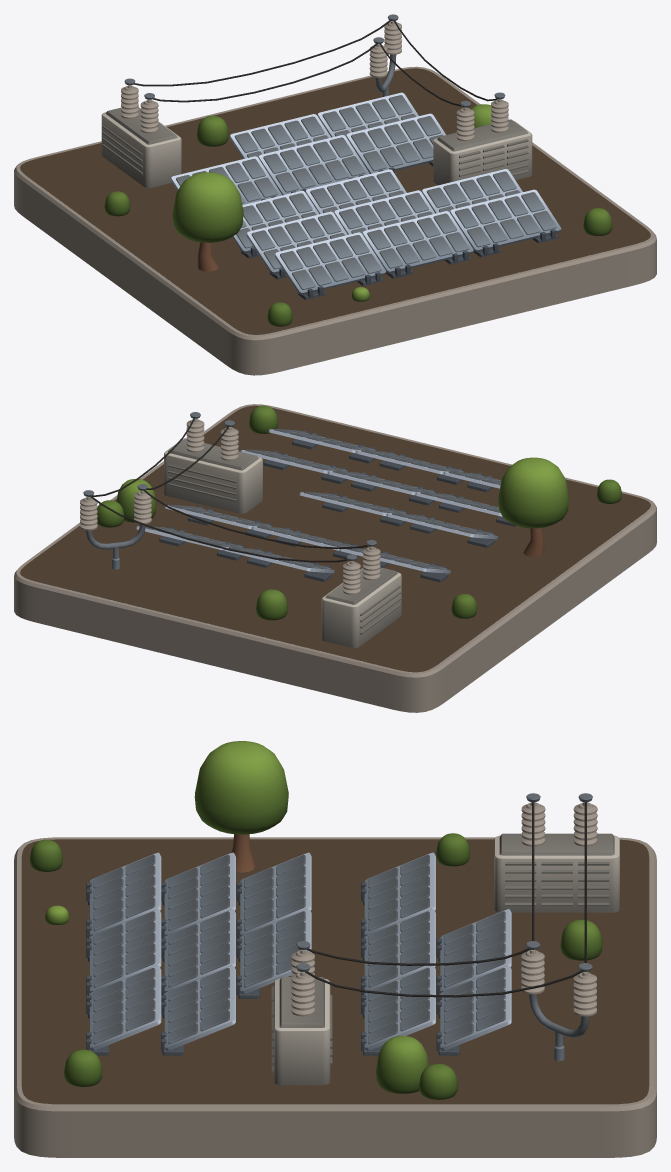
Rendered from stage-300-simple.glb.
3 views of the same model, one above another, from view 1: azimuth 30°, elevation 25°; view 2: azimuth 150°, elevation 25°; view 3: azimuth 270°, elevation 25° (orthographic). The views are drawn at different scales.
Parts seen in each view (by area): view 1: ground, building_main.001, building_main.003, building_main.002, Cube, Cube.001, leaves_low, building_main.014, building_main.015, building_main.004, building_main.018, building_main.019 (+13 smaller); view 2: ground, Cube, Cube.001, leaves_low, Plane, building_main.008, building_main.018, building_main.002, building_main.009, building_main.003, building_main.005, building_main.006 (+17 smaller); view 3: ground, Cube.001, leaves_low, Cube, building_main.006, building_main.003, building_main.019, building_main.015, building_main.002, building_main.008, building_main.001, building_main.005 (+18 smaller).
Part boxes in pixels (bbox=[...]): ground: bbox=[14, 66, 656, 375]; building_main.001: bbox=[275, 232, 385, 299]; building_main.003: bbox=[450, 189, 561, 257]; building_main.002: bbox=[362, 211, 473, 278]; Cube: bbox=[433, 119, 532, 185]; Cube.001: bbox=[101, 106, 181, 187]; leaves_low: bbox=[172, 172, 243, 242]; building_main.014: bbox=[258, 135, 369, 195]; building_main.015: bbox=[346, 113, 445, 176]; building_main.004: bbox=[246, 211, 347, 279]; building_main.018: bbox=[229, 114, 331, 158]; building_main.019: bbox=[317, 92, 418, 137]; ground: bbox=[14, 404, 656, 712]; Cube: bbox=[164, 438, 262, 513]; Cube.001: bbox=[321, 567, 401, 647]; leaves_low: bbox=[498, 457, 569, 528]; Plane: bbox=[90, 418, 367, 562]; building_main.008: bbox=[386, 513, 497, 547]; building_main.018: bbox=[223, 547, 334, 581]; building_main.002: bbox=[356, 450, 463, 484]; building_main.009: bbox=[299, 491, 406, 526]; building_main.003: bbox=[268, 428, 375, 463]; building_main.005: bbox=[328, 470, 434, 505]; building_main.006: bbox=[240, 449, 347, 483]; ground: bbox=[14, 837, 656, 1157]; Cube.001: bbox=[494, 833, 619, 912]; leaves_low: bbox=[194, 741, 288, 834]; Cube: bbox=[271, 977, 332, 1085]; building_main.006: bbox=[161, 965, 235, 1055]; building_main.003: bbox=[86, 965, 161, 1055]; building_main.019: bbox=[436, 965, 511, 1055]; building_main.015: bbox=[361, 965, 435, 1055]; building_main.002: bbox=[86, 909, 161, 995]; building_main.008: bbox=[236, 852, 311, 938]; building_main.001: bbox=[86, 852, 161, 938]; building_main.005: bbox=[161, 909, 235, 995].
Bounding box in the file's own units: 11.6 × 3.36 × 11.6.
7 materials, 2 textured.
